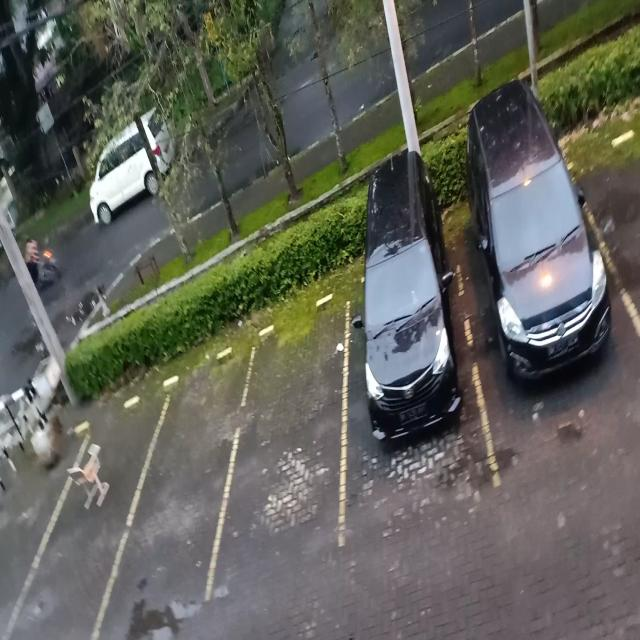empty: (230, 296, 346, 570), (135, 364, 231, 609)
occupied: (467, 151, 618, 480), (340, 206, 476, 507)
